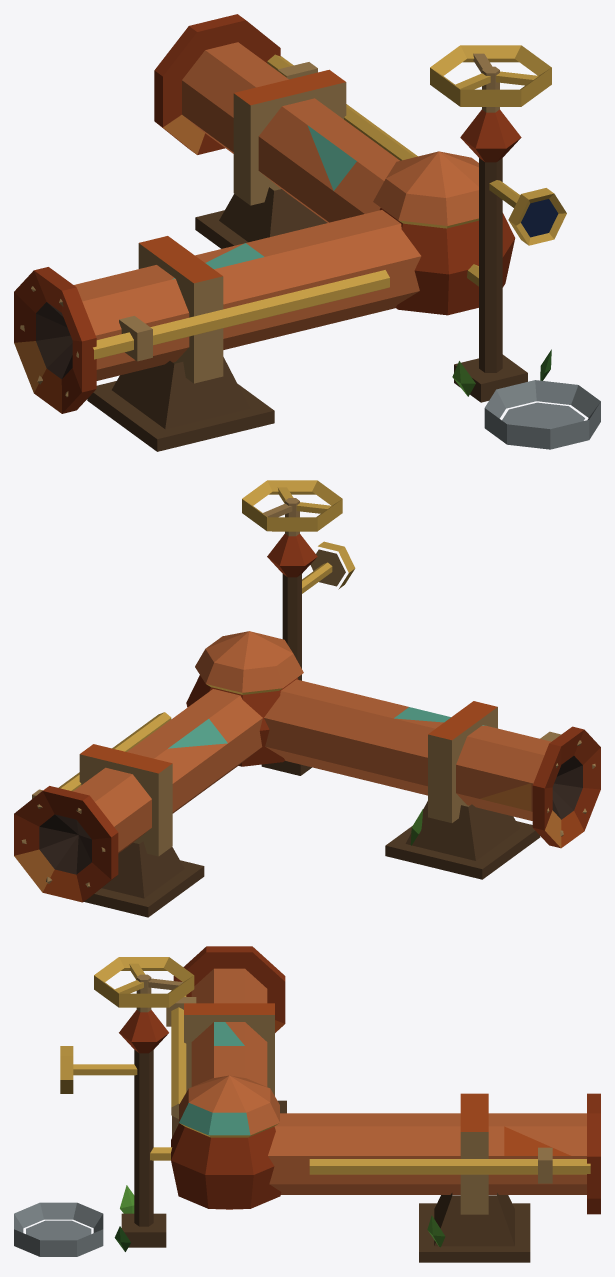
File: pipe.glb
The picture shows the model from 3 angles, top to bottom: view 1: azimuth 30°, elevation 25°; view 2: azimuth 150°, elevation 25°; view 3: azimuth 270°, elevation 25°; orthographic projection. The views are drawn at different scales.
Parts seen in each view (by area): view 1: pipe-junction, drip-pan, valve-wheel; view 2: pipe-junction, valve-wheel; view 3: pipe-junction, drip-pan, valve-wheel.
Part boxes in pixels (left/top/right/bottom): pipe-junction: left=14, top=14, right=566, bottom=451; drip-pan: left=484, top=380, right=600, bottom=449; valve-wheel: left=430, top=45, right=551, bottom=106; pipe-junction: left=14, top=498, right=600, bottom=917; valve-wheel: left=242, top=480, right=342, bottom=531; pipe-junction: left=60, top=946, right=600, bottom=1262; drip-pan: left=14, top=1202, right=103, bottom=1256; valve-wheel: left=94, top=957, right=194, bottom=1007.
Size of the model in its own units: 2.34 by 1.56 by 3.16.
